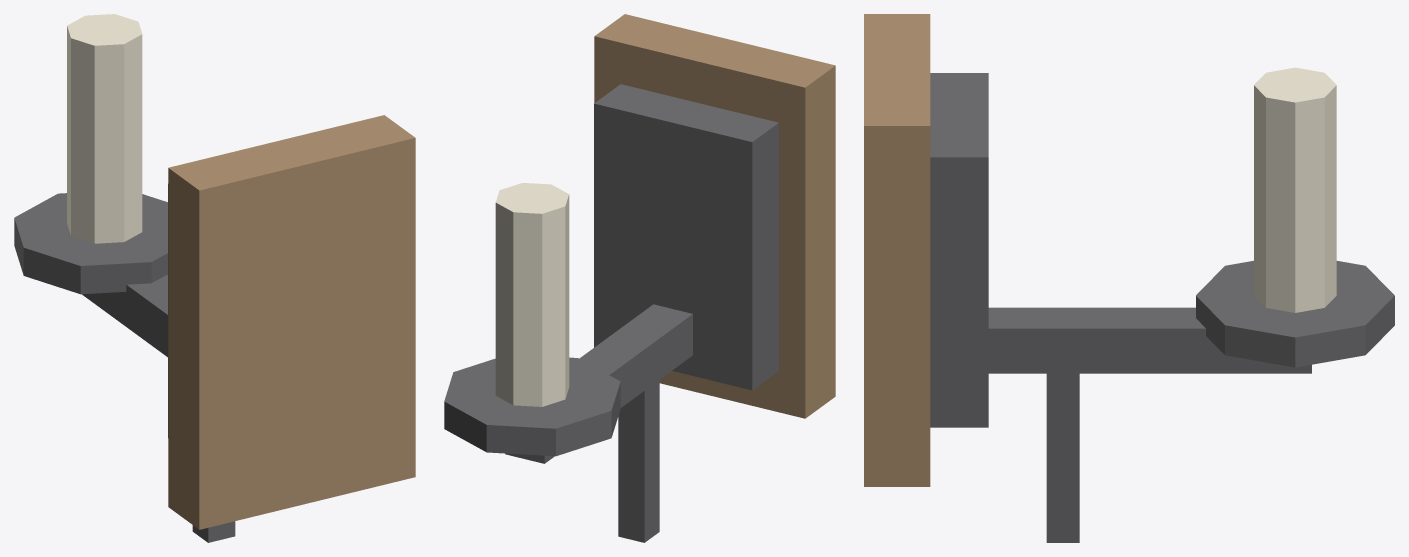
Rendered from prop-candle-sconce.fbx.
The picture shows the model from 3 angles, left to right: view 1: azimuth 30°, elevation 25°; view 2: azimuth 150°, elevation 25°; view 3: azimuth 270°, elevation 25°; orthographic projection. The views are drawn at different scales.
Parts seen in each view (by area): view 1: prop-candle-sconce; view 2: prop-candle-sconce; view 3: prop-candle-sconce.
Part boxes in pixels (<box>): prop-candle-sconce: <box>14,14,415,542</box>; prop-candle-sconce: <box>444,14,835,542</box>; prop-candle-sconce: <box>864,14,1394,542</box>.
Size of the model in its own units: 0.16 by 0.31 by 0.32.
